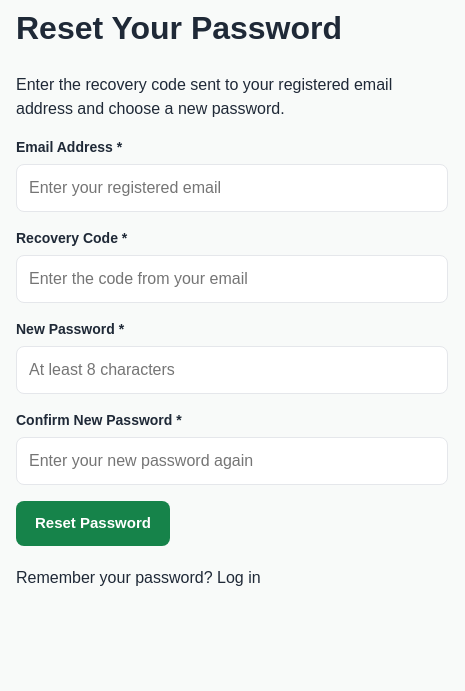
Test case: ResetPassword › rejects passwords shorter than eight characters
The image size is (465, 691).
Type "user@example.com" into the field with placeholder "Enter your registered email" at (232, 188), box [16, 164, 448, 212]
Type "test-recovery-code" into the field with placeholder "Enter the code from your email" at (232, 279), box [16, 255, 448, 303]
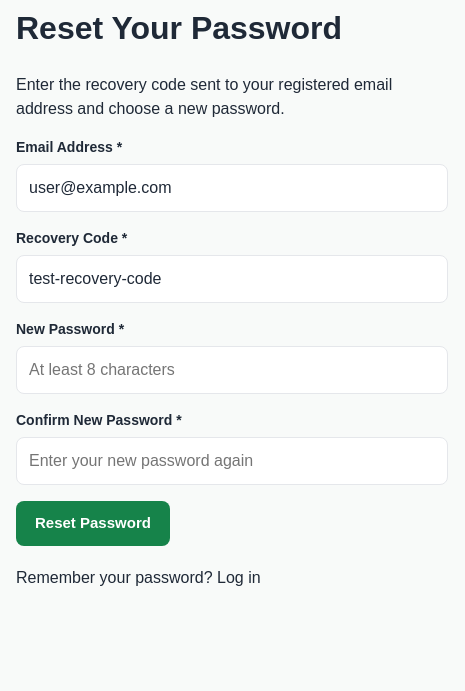
Type "NewPassword123!" into the password field with placeholder "At least 8 characters" at (232, 370), box [16, 346, 448, 394]
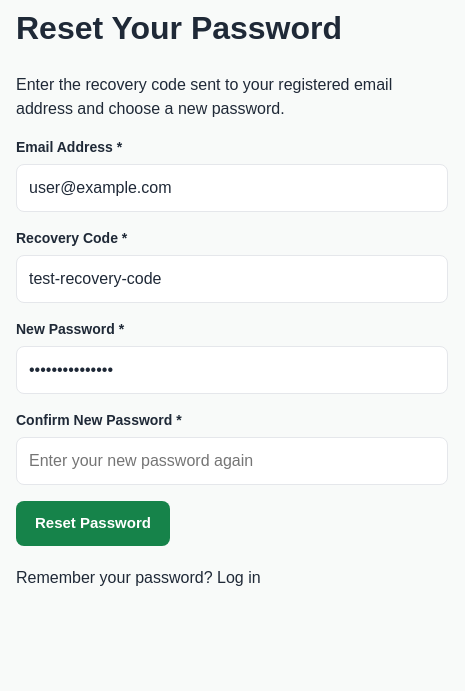
Type "NewPassword123!" into the password field with placeholder "Enter your new password again" at (232, 461), box [16, 437, 448, 485]
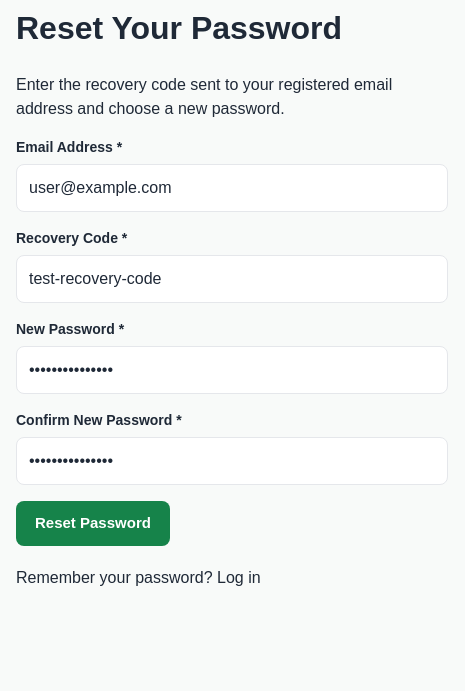
Type "short" into the password field with placeholder "At least 8 characters" at (232, 370), box [16, 346, 448, 394]
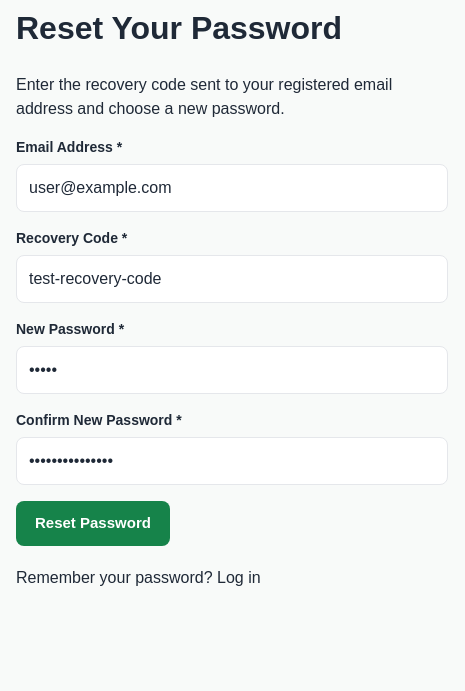
Type "short" into the password field with placeholder "Enter your new password again" at (232, 461), box [16, 437, 448, 485]
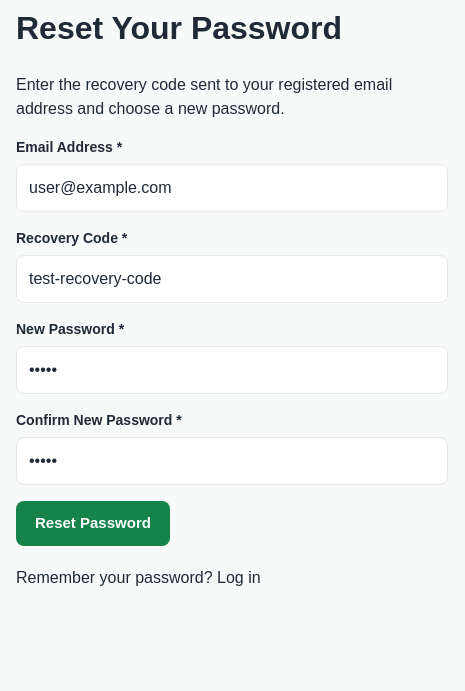
Click the button "Reset Password" at (93, 524), box [16, 501, 170, 546]
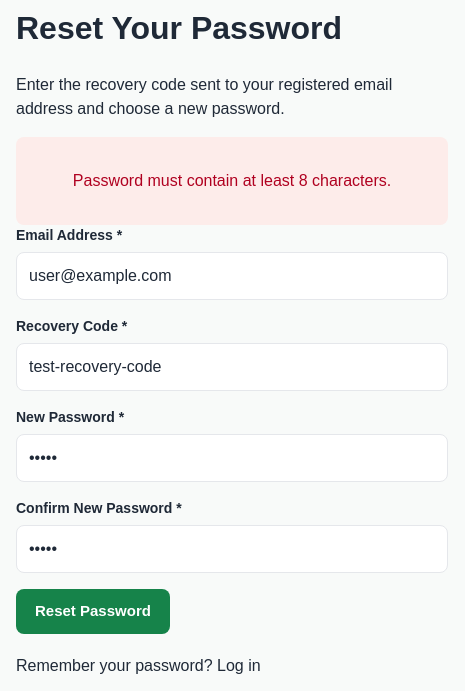
Check: the message reads "Password must contain at least 8 characters.", box [73, 172, 391, 189]
